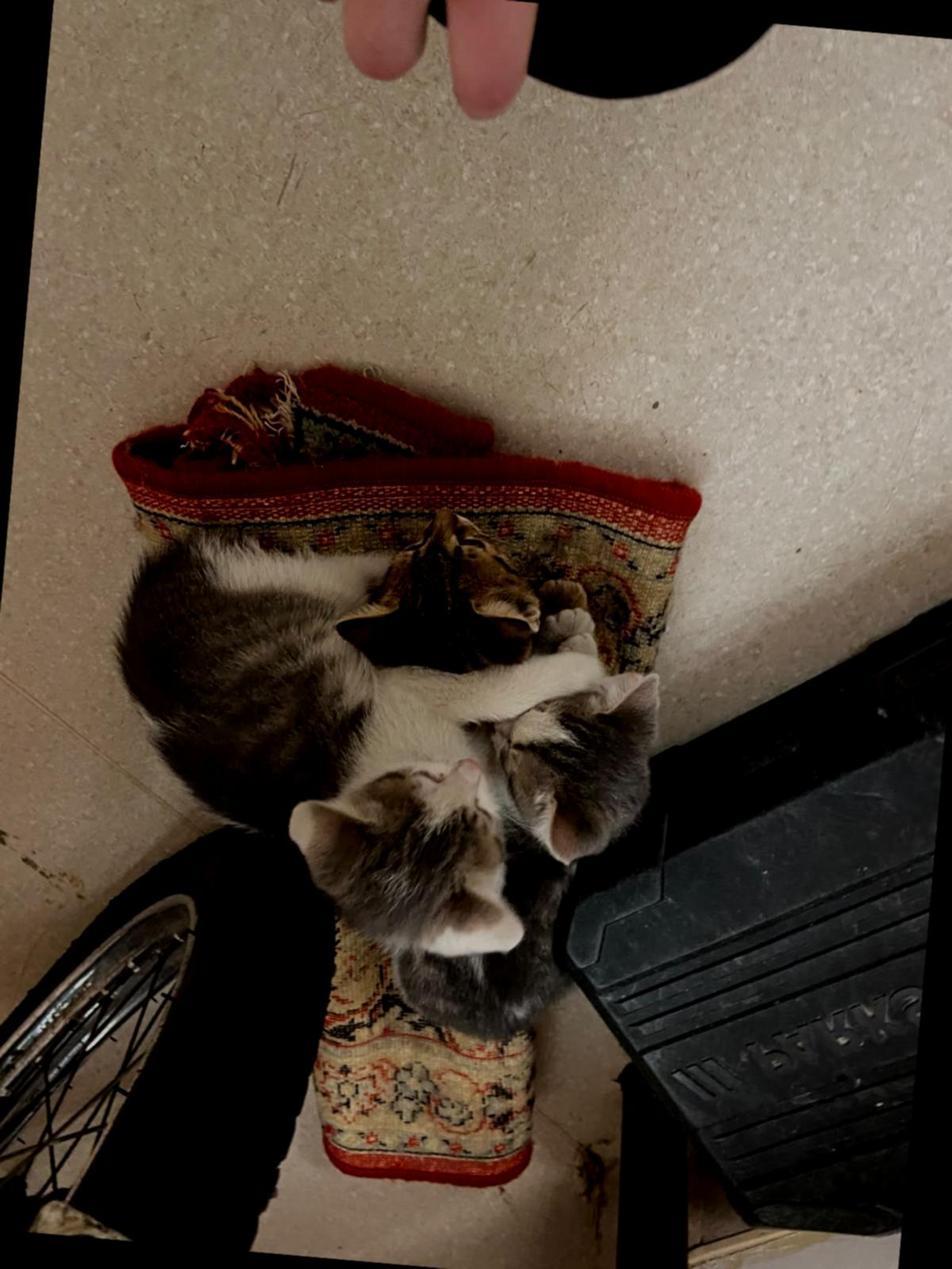macka: (94, 529, 622, 968), (384, 652, 663, 1052), (330, 497, 595, 685)
